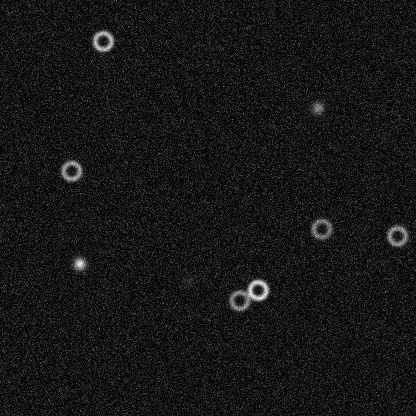Ring: (90, 28, 114, 52), (245, 277, 269, 301), (309, 216, 333, 240), (227, 288, 251, 312), (385, 223, 409, 247), (59, 158, 83, 182)
Spot: (309, 99, 325, 115), (180, 272, 196, 288), (71, 255, 87, 271)
